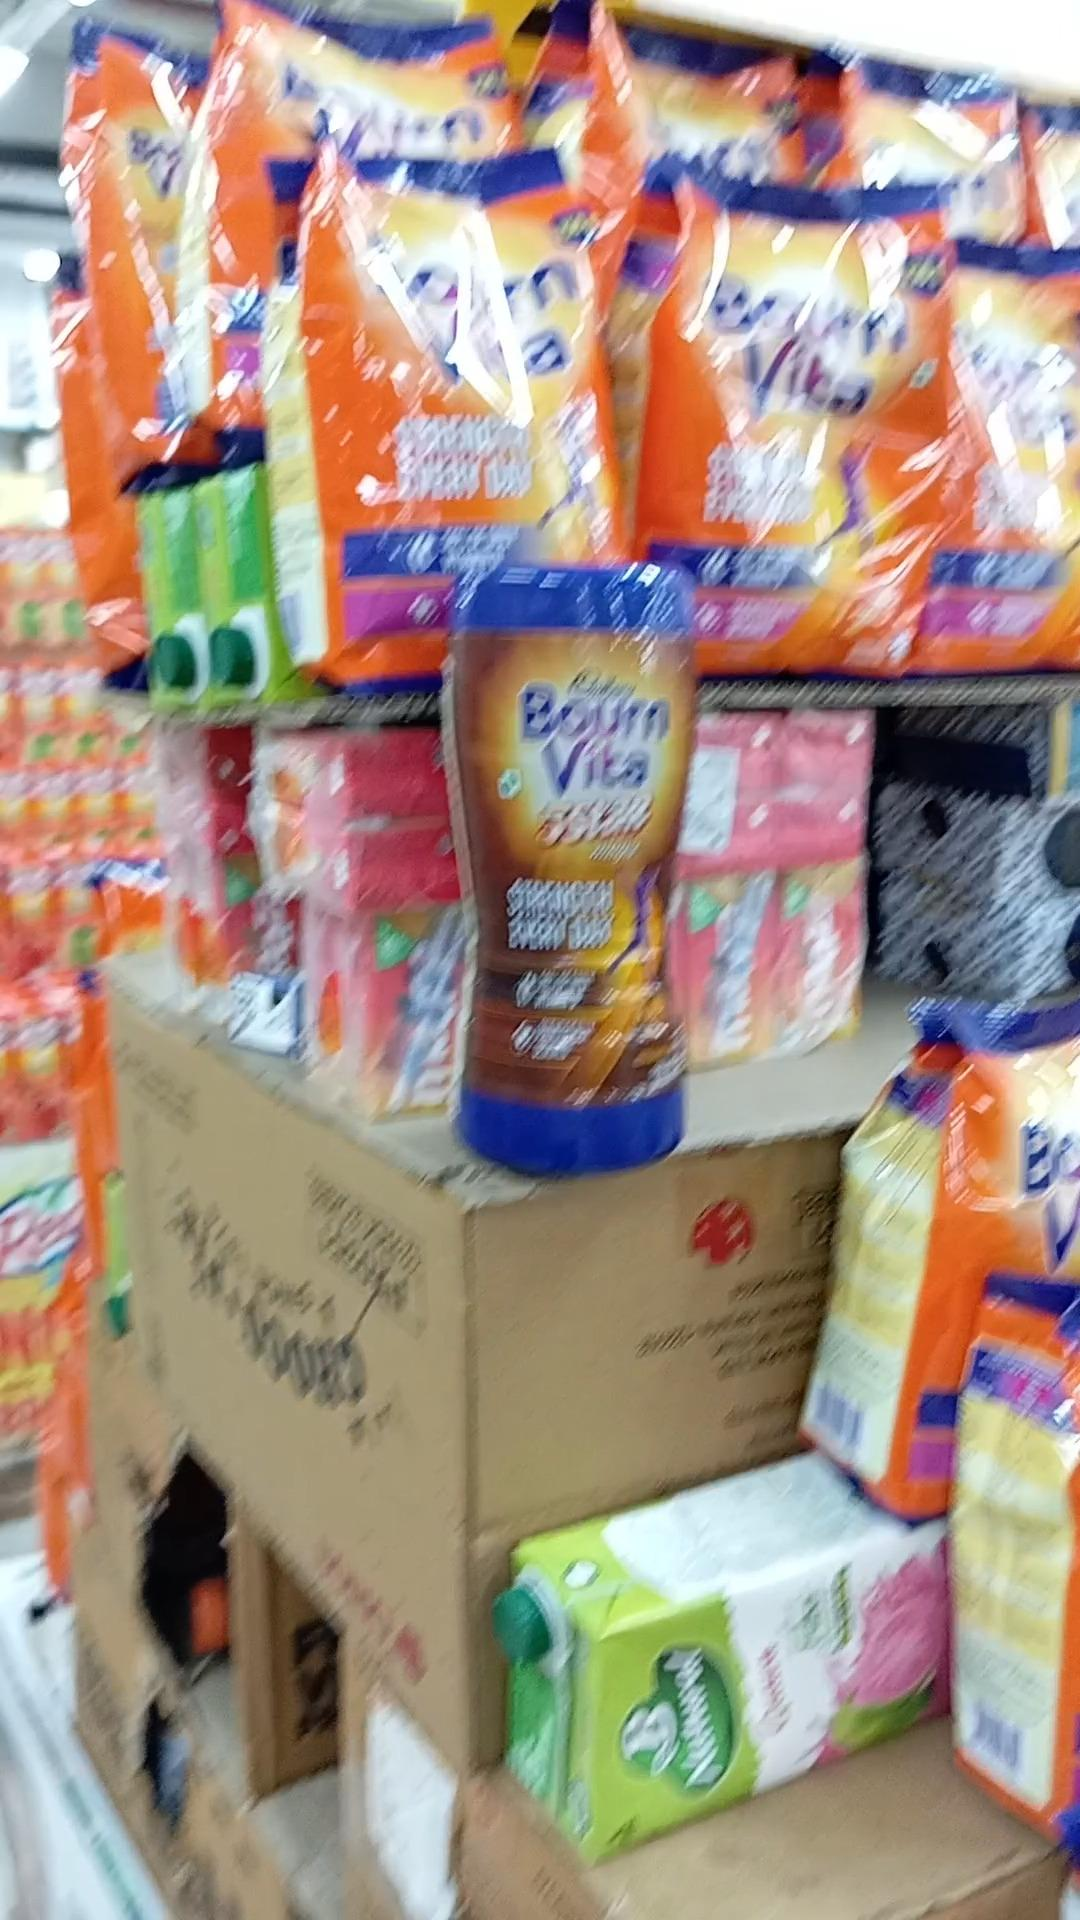BOURN_VITA_FIVE_STAR_MAGIC_500_G_JAR: (450, 562, 695, 1178)
